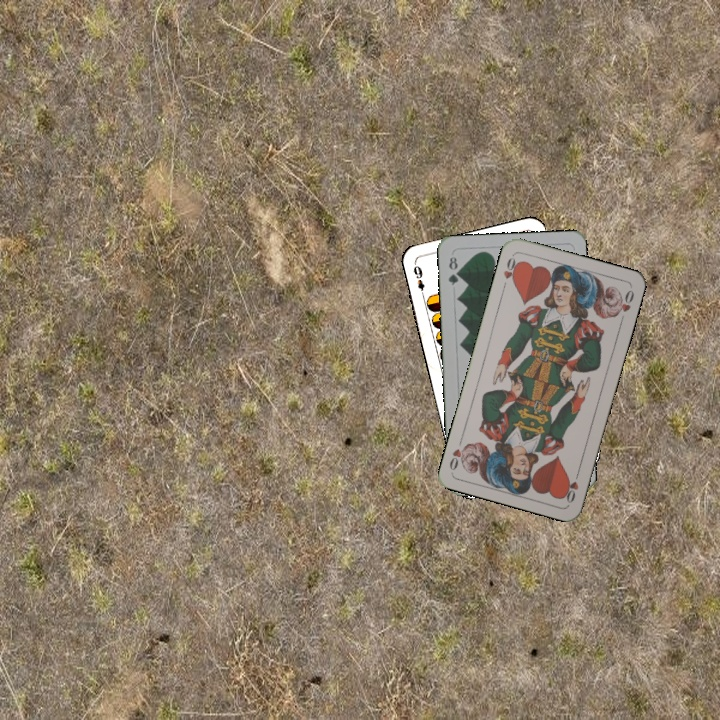E9: (409, 262, 427, 300)
G8: (444, 252, 462, 288)
HO: (499, 251, 522, 291), (560, 466, 582, 506)
